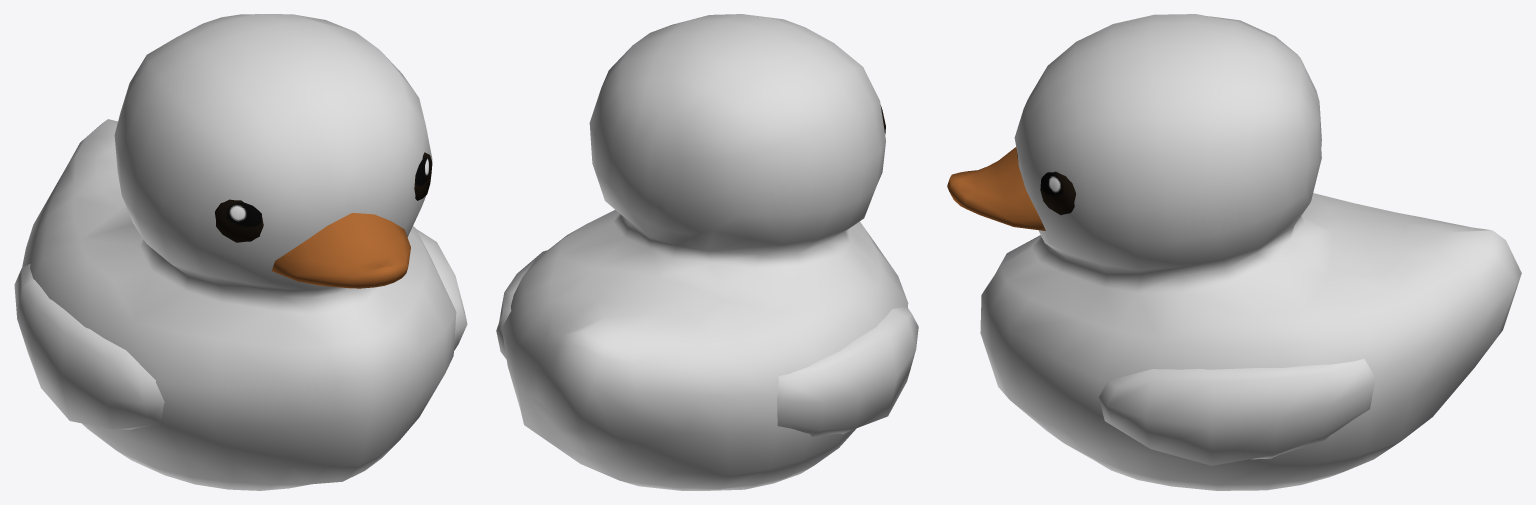
The model's file is Utka.fbx.
3 renders of one model, left to right at view 1: azimuth 30°, elevation 25°; view 2: azimuth 150°, elevation 25°; view 3: azimuth 270°, elevation 25°, orthographic. The views are drawn at different scales.
Parts seen in each view (by area): view 1: Body; view 2: Body; view 3: Body.
Part boxes in pixels (bbox=[...]): Body: bbox=[14, 14, 467, 490]; Body: bbox=[496, 14, 918, 490]; Body: bbox=[947, 14, 1521, 490].
Bounding box in the file's own units: 93.7 × 96.08 × 125.
